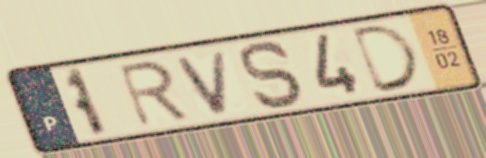1: (60, 64, 113, 140)
4: (313, 30, 364, 100)
D: (349, 21, 425, 97)
R: (114, 58, 194, 130)
S: (237, 38, 310, 111)
V: (172, 46, 233, 118)
